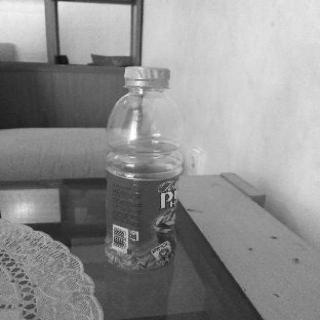plastic_bottles: (98, 64, 180, 274)
